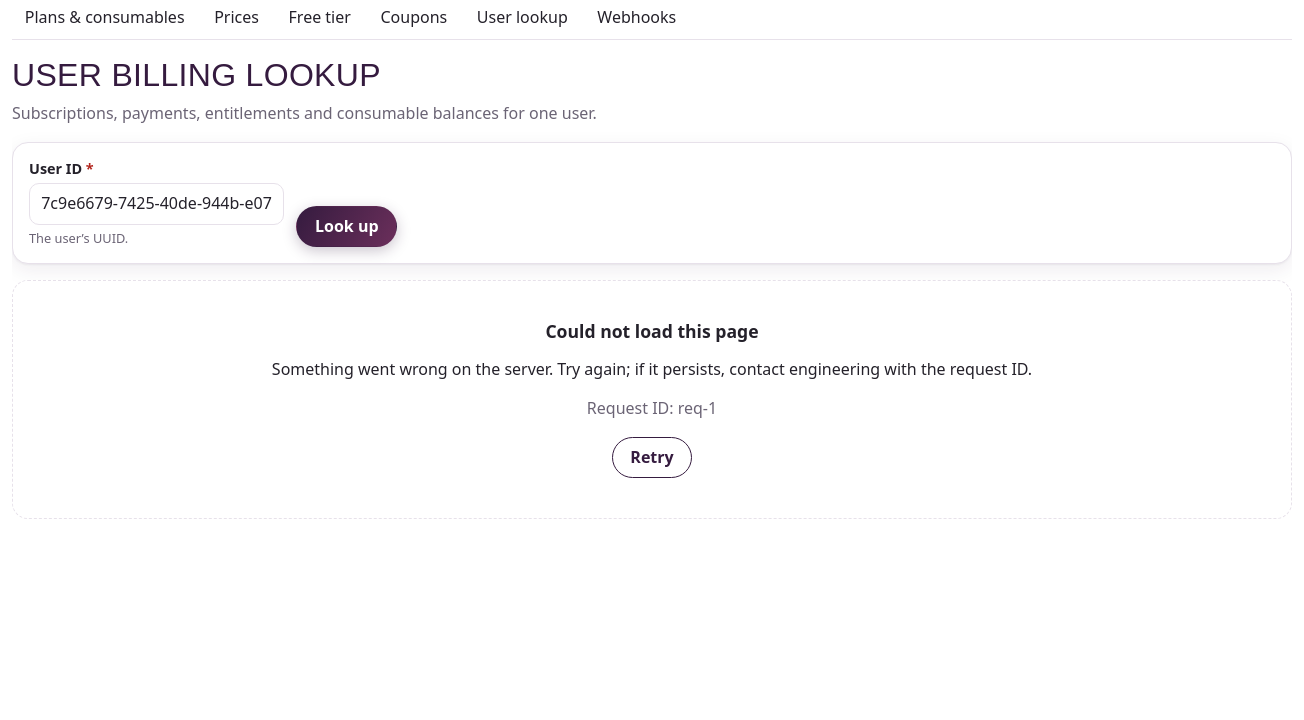
Test: UserBillingPage › shows the lookup error and retries
This screenshot has width=1304, height=720.
Step 1. Click the button "Retry" → (652, 457), box [612, 437, 692, 478]
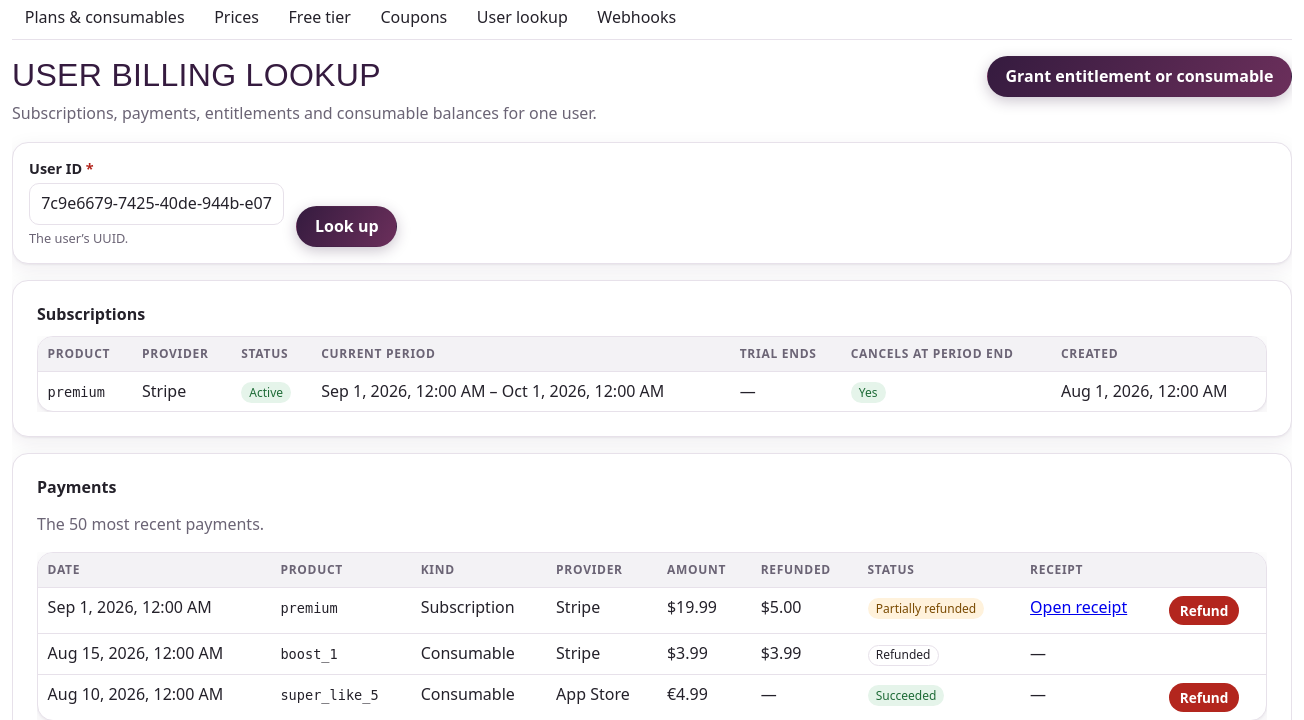
Expected: the heading "Subscriptions" is shown, [37, 303, 145, 325]
